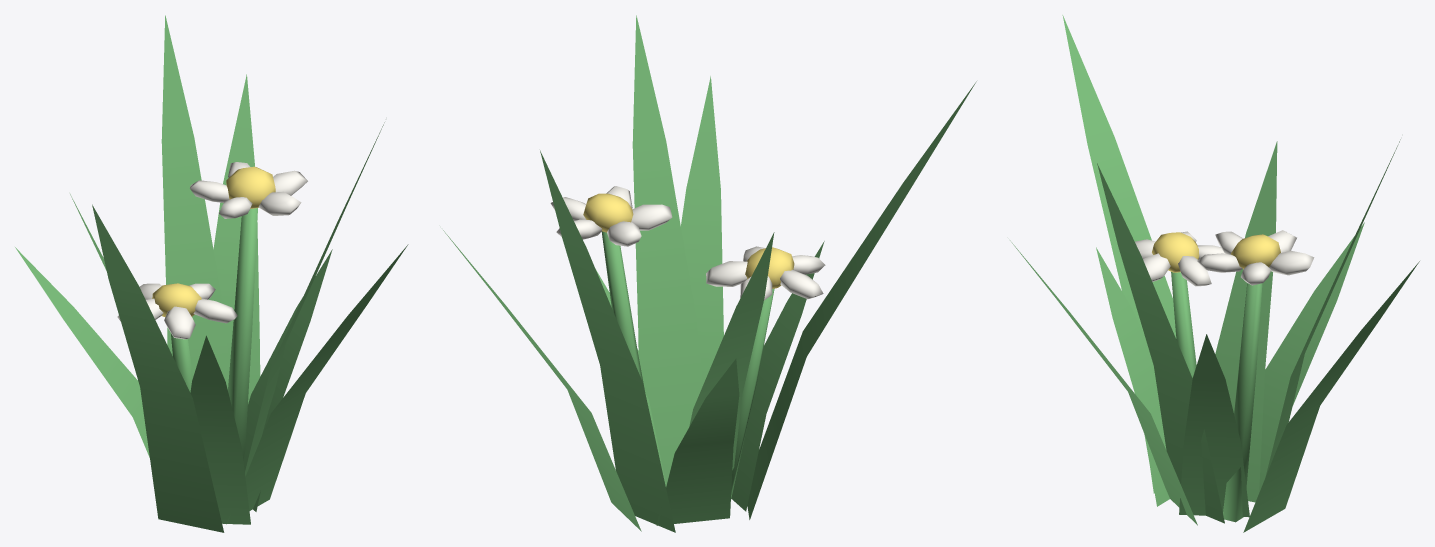
Rendered from grass_tuft.glb.
The picture shows the model from 3 angles, left to right: view 1: azimuth 30°, elevation 25°; view 2: azimuth 150°, elevation 25°; view 3: azimuth 270°, elevation 25°; orthographic projection. The views are drawn at different scales.
Visible parts, largest first — view 1: UnifiedMesh; view 2: UnifiedMesh; view 3: UnifiedMesh.
Boxes of the visible parts, box(x1,y1,x2,y2) form: UnifiedMesh: box(15, 15, 408, 532); UnifiedMesh: box(443, 15, 976, 532); UnifiedMesh: box(1010, 15, 1419, 532).
Bounding box in the file's own units: 0.3842 × 0.4423 × 0.4188.
